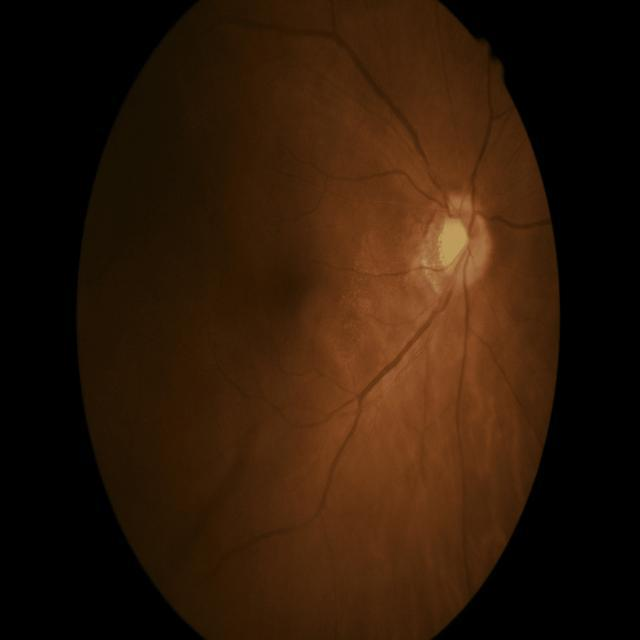cup: (445, 211, 471, 271)
disk: (436, 196, 496, 292)
